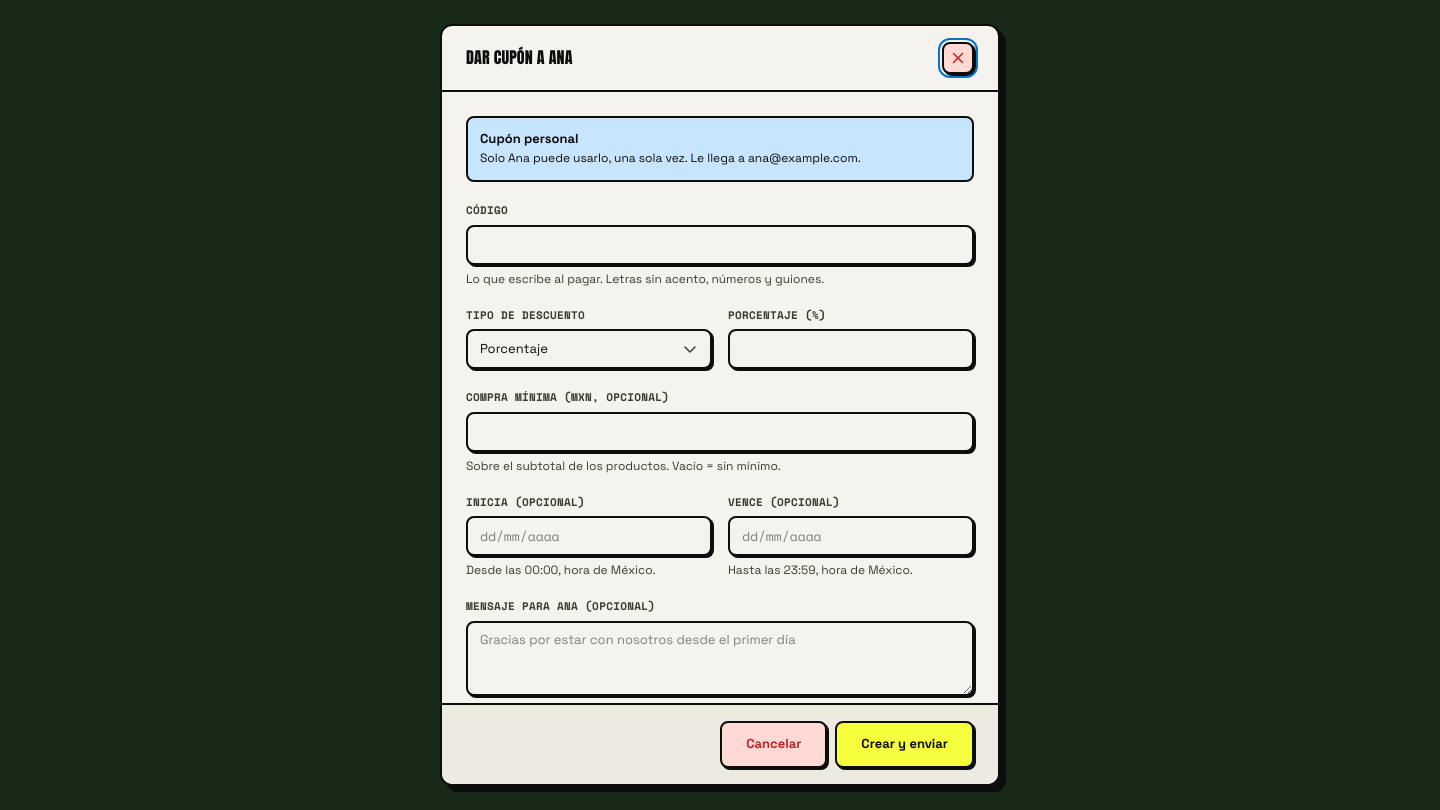
Test: GiveCouponModal › un formulario vacío marca los campos y no toca la red
Click the button "Crear y enviar" at (905, 745), box [835,721,974,768]
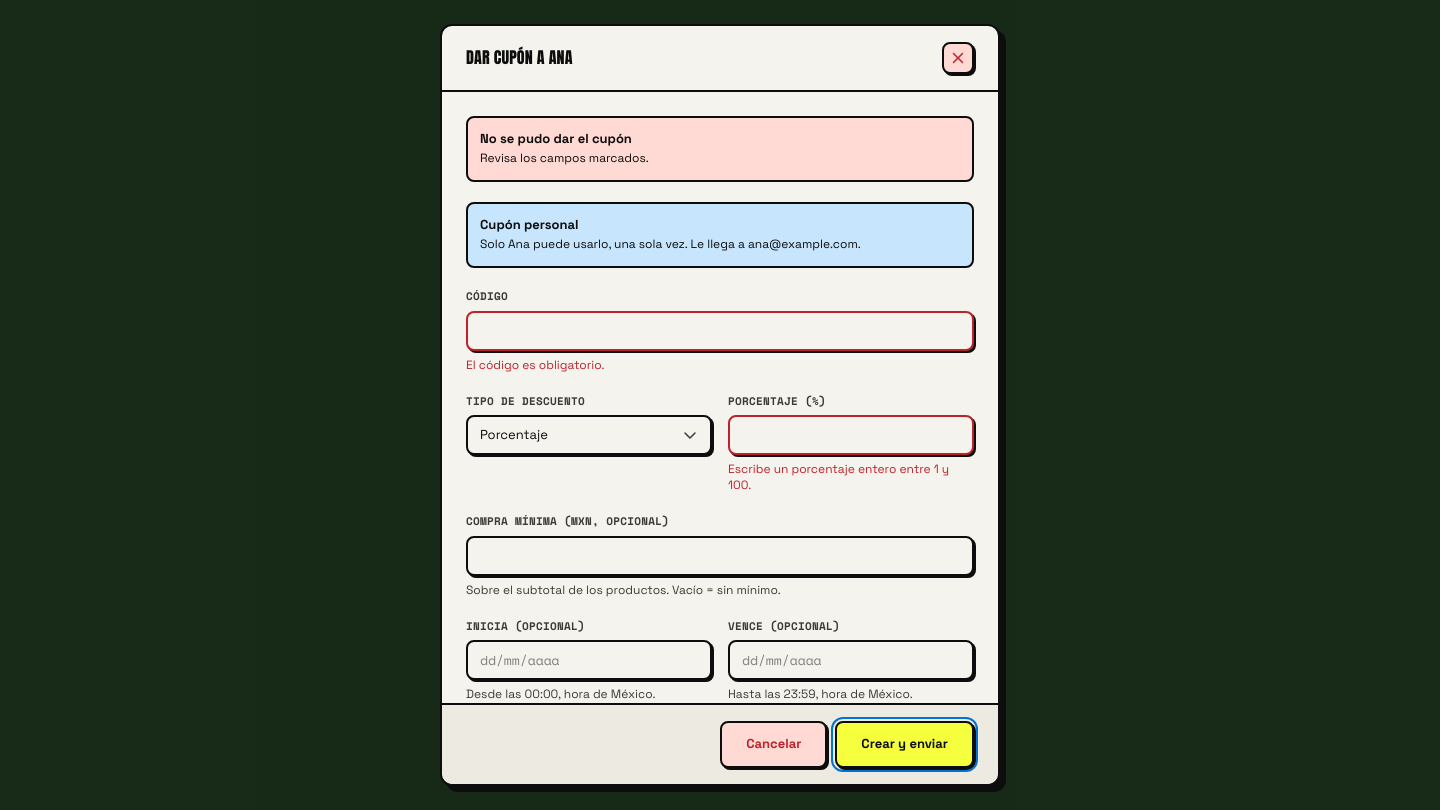
expect the text "El código es obligatorio." is shown: met, box [466,357,605,373]
expect the text "Escribe un porcentaje entero entre 1 y 100." is shown: met, box [728,461,974,493]
